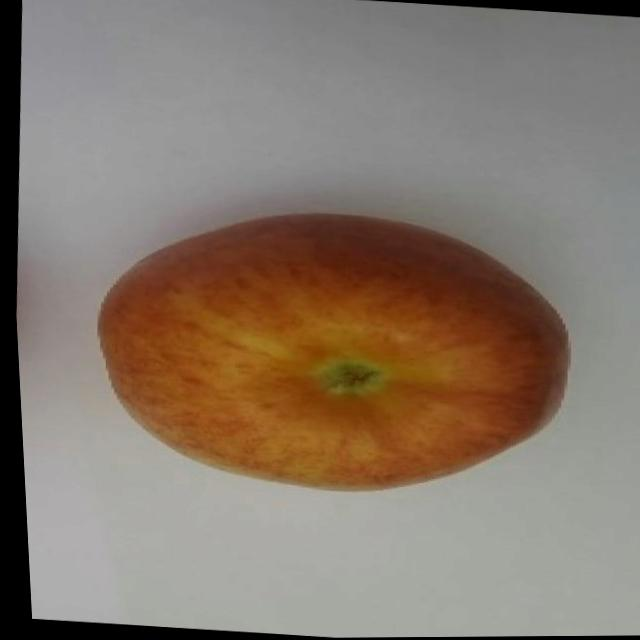Apple: (78, 193, 581, 508)
